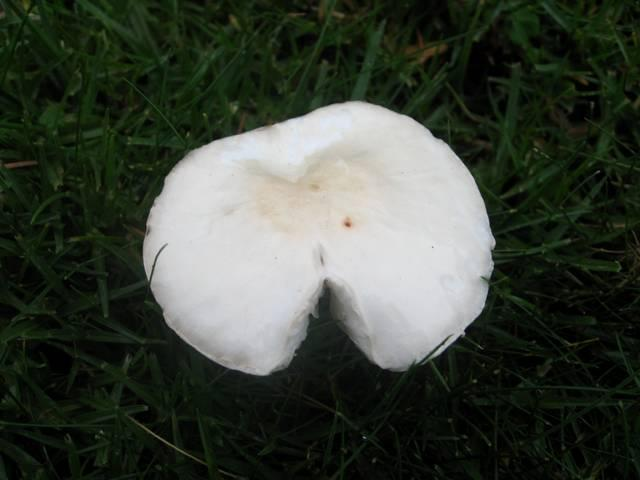poisonous_mushroom: (140, 98, 497, 377)
